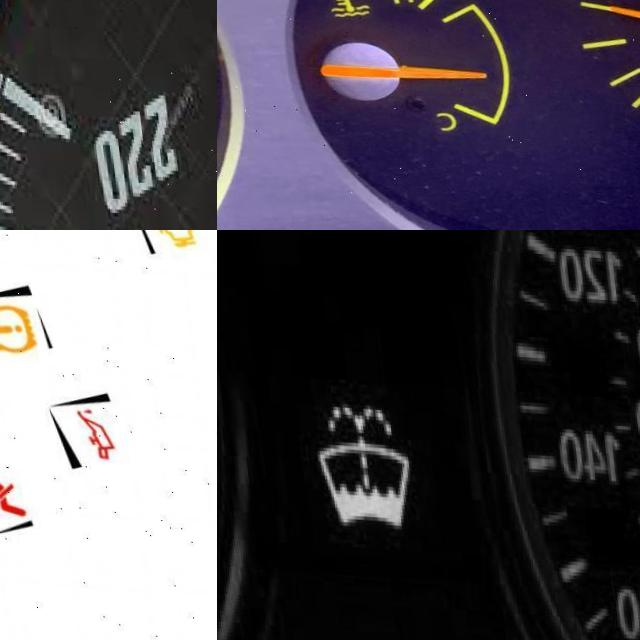Washer Fluid: (306, 401, 412, 527)
